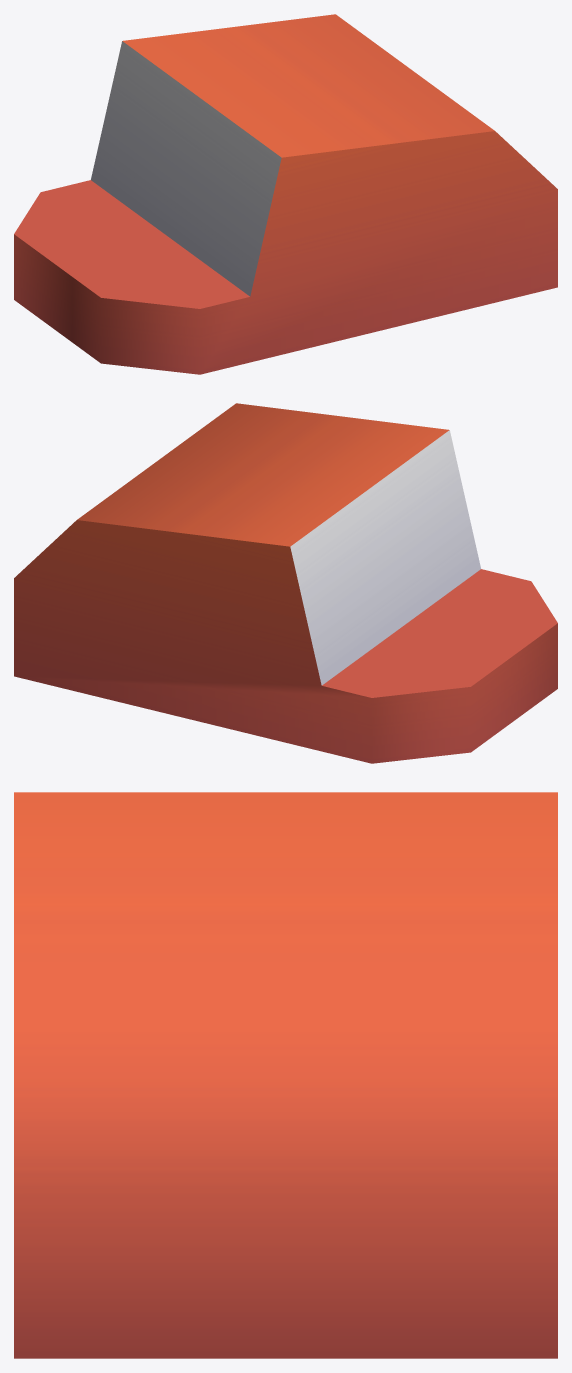
The model's file is hat-cap.fbx.
3 renders of one model, top to bottom at view 1: azimuth 30°, elevation 25°; view 2: azimuth 150°, elevation 25°; view 3: azimuth 270°, elevation 25°, orthographic. The views are drawn at different scales.
Parts seen in each view (by area): view 1: hat-cap; view 2: hat-cap; view 3: hat-cap.
Boxes of the visible parts, left/top/right/bottom form: hat-cap: left=14, top=14, right=557, bottom=374; hat-cap: left=14, top=403, right=557, bottom=763; hat-cap: left=14, top=792, right=557, bottom=1358.
Size of the model in its own units: 33.5 by 15 by 22.
